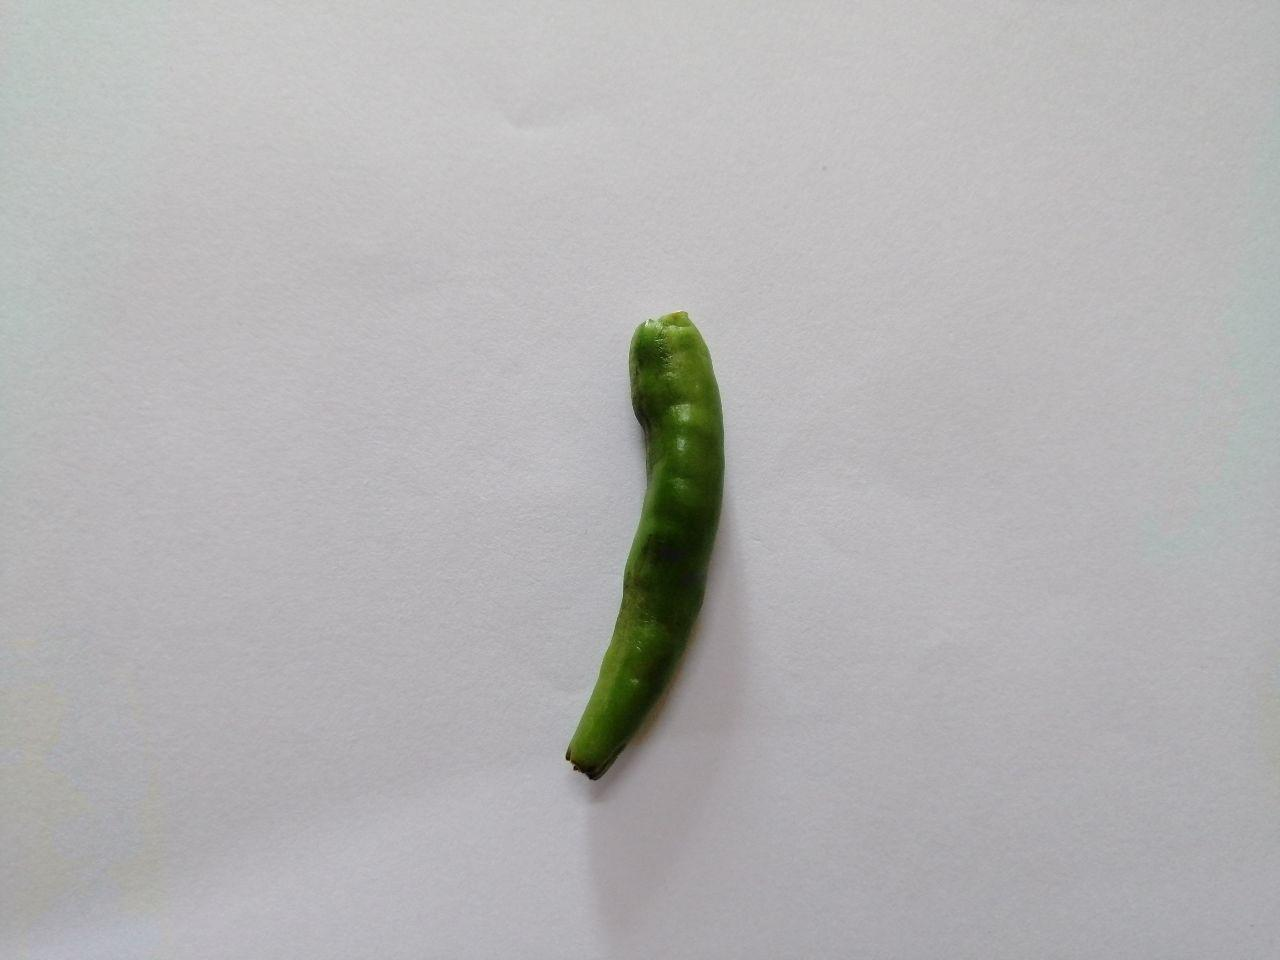lada hijau: (556, 302, 741, 793)
